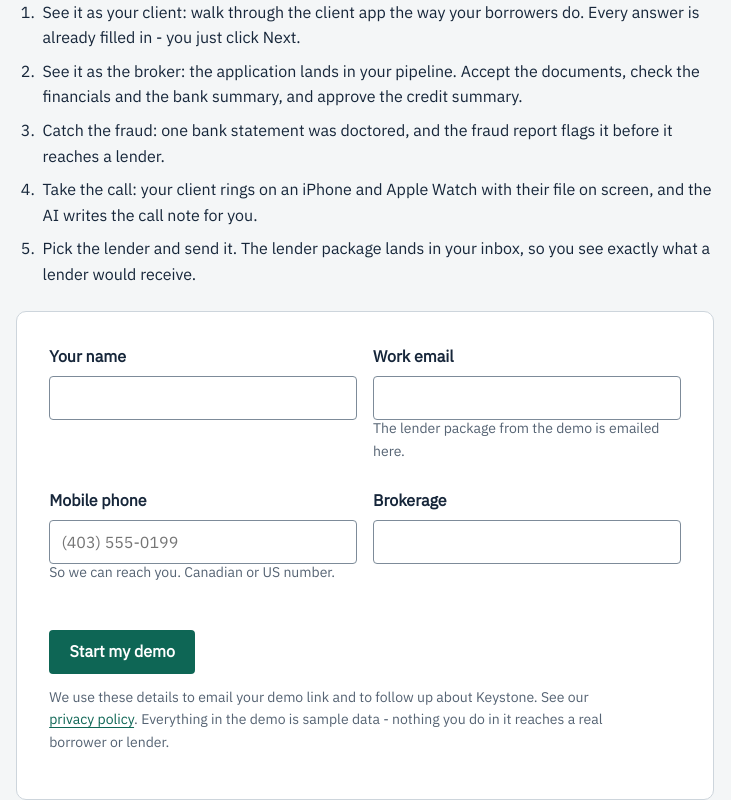
Test: Try it yourself › formats the mobile number as it is typed
(page scrolled)
In the field labelled "Mobile phone": (203, 542) [49,520,357,564], type "4035550199"
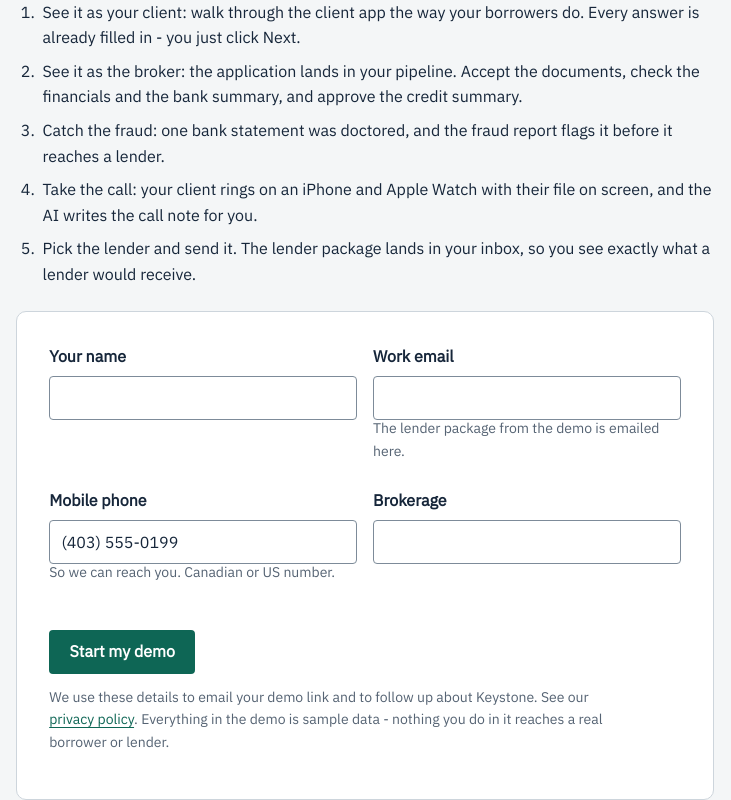
Expected: the field labelled "Mobile phone" holds "(403) 555-0199", [49,520,357,564]
